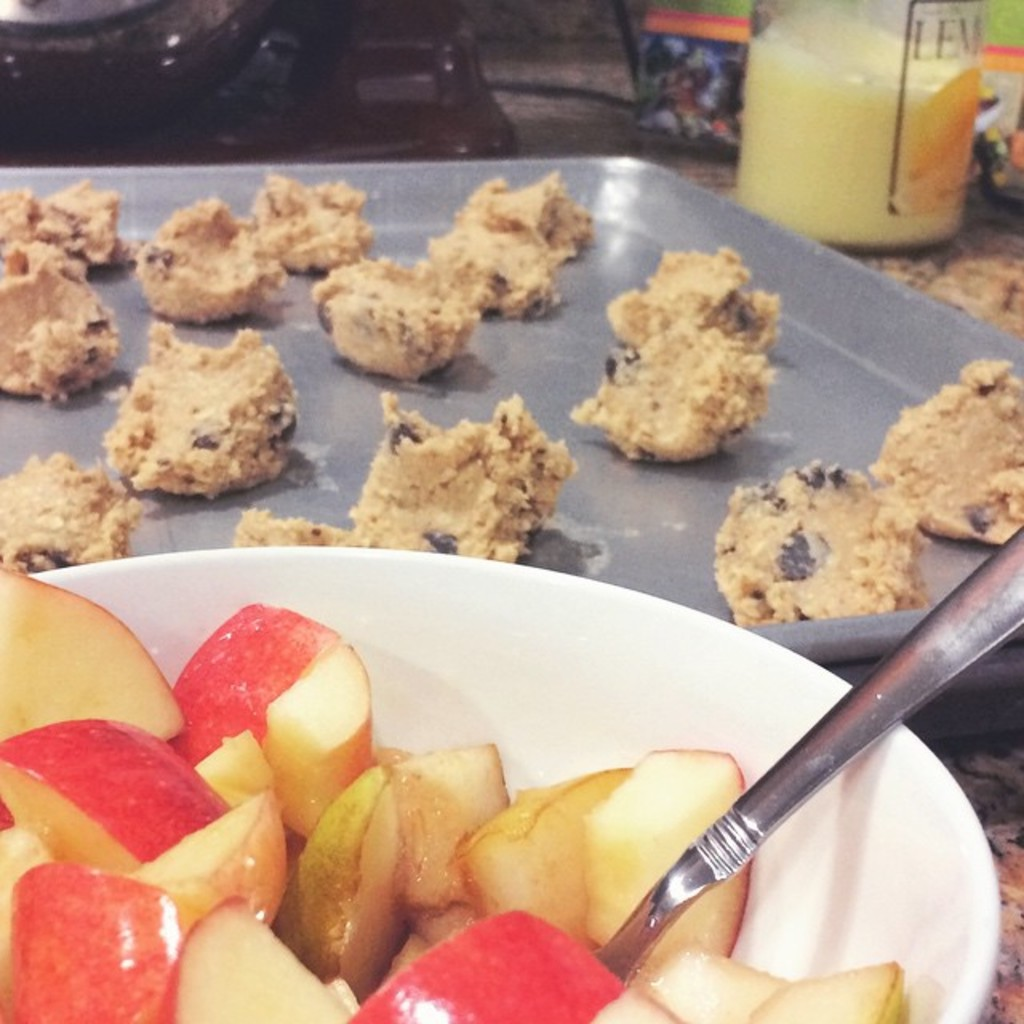Apple: (0, 555, 913, 1022), (348, 903, 627, 1022)
